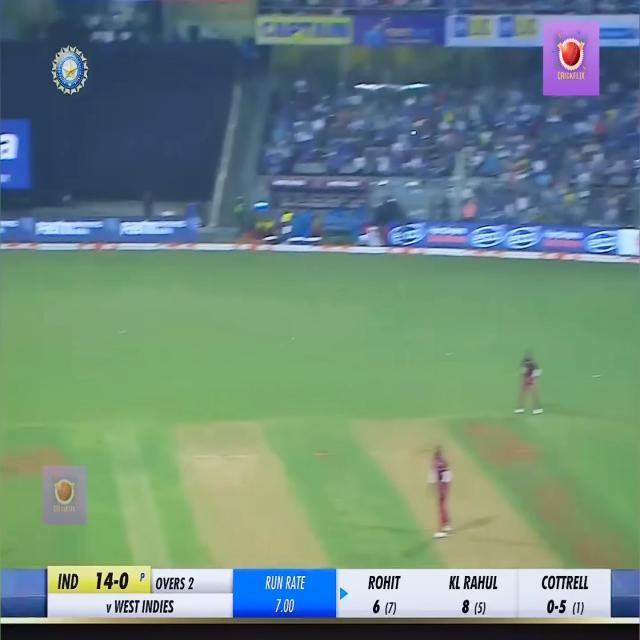fully_visible: (32, 218, 114, 248), (120, 217, 188, 246)
